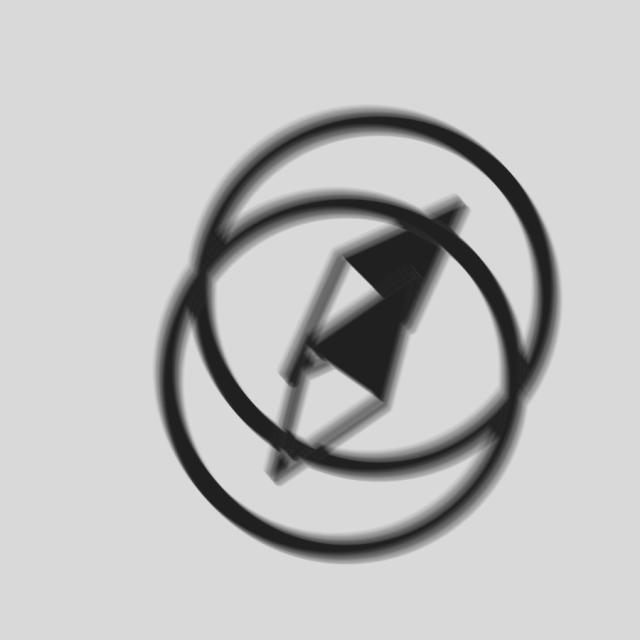compass: (147, 185, 541, 573), (185, 101, 570, 491)
